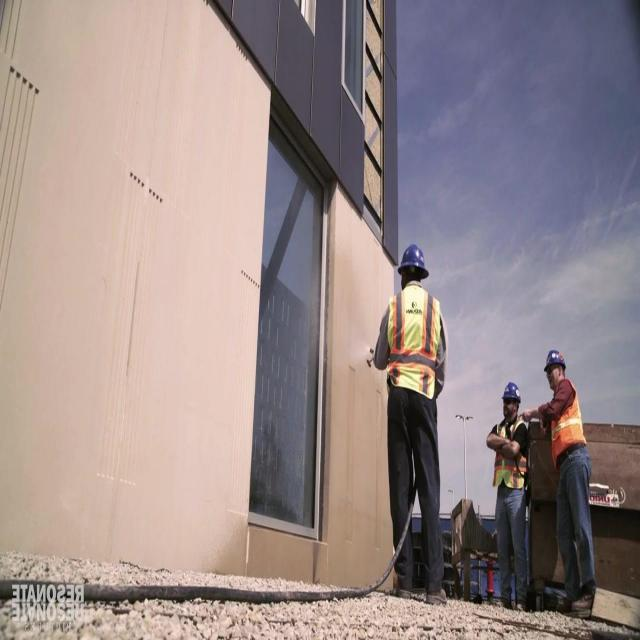Reflective-Jacket: (380, 284, 450, 404), (538, 378, 594, 473), (484, 416, 534, 497)
Safety-Helmet: (392, 234, 434, 285), (537, 339, 571, 381), (496, 372, 524, 412)
